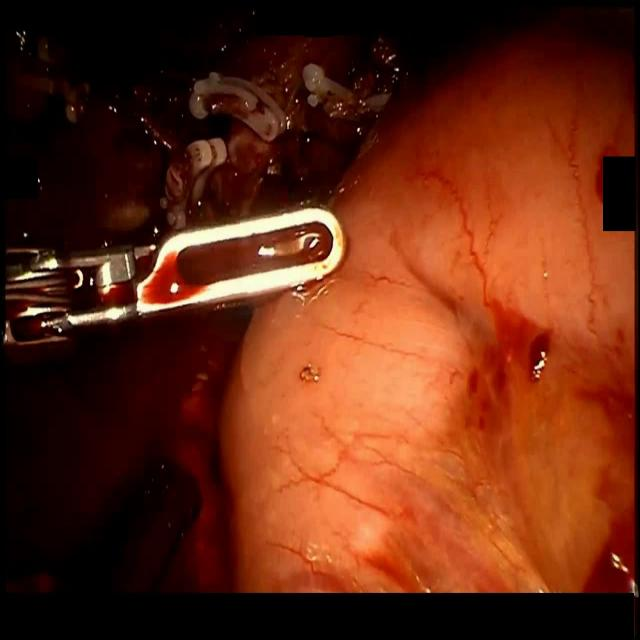surgical-area: (0, 0, 635, 595)
surgical-tool: (2, 199, 346, 373)
